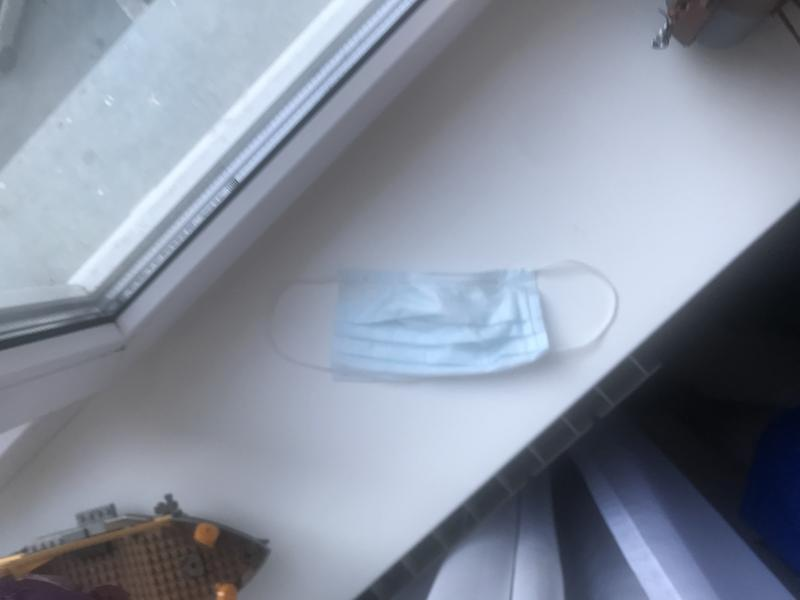medical_mask: (266, 259, 619, 369)
